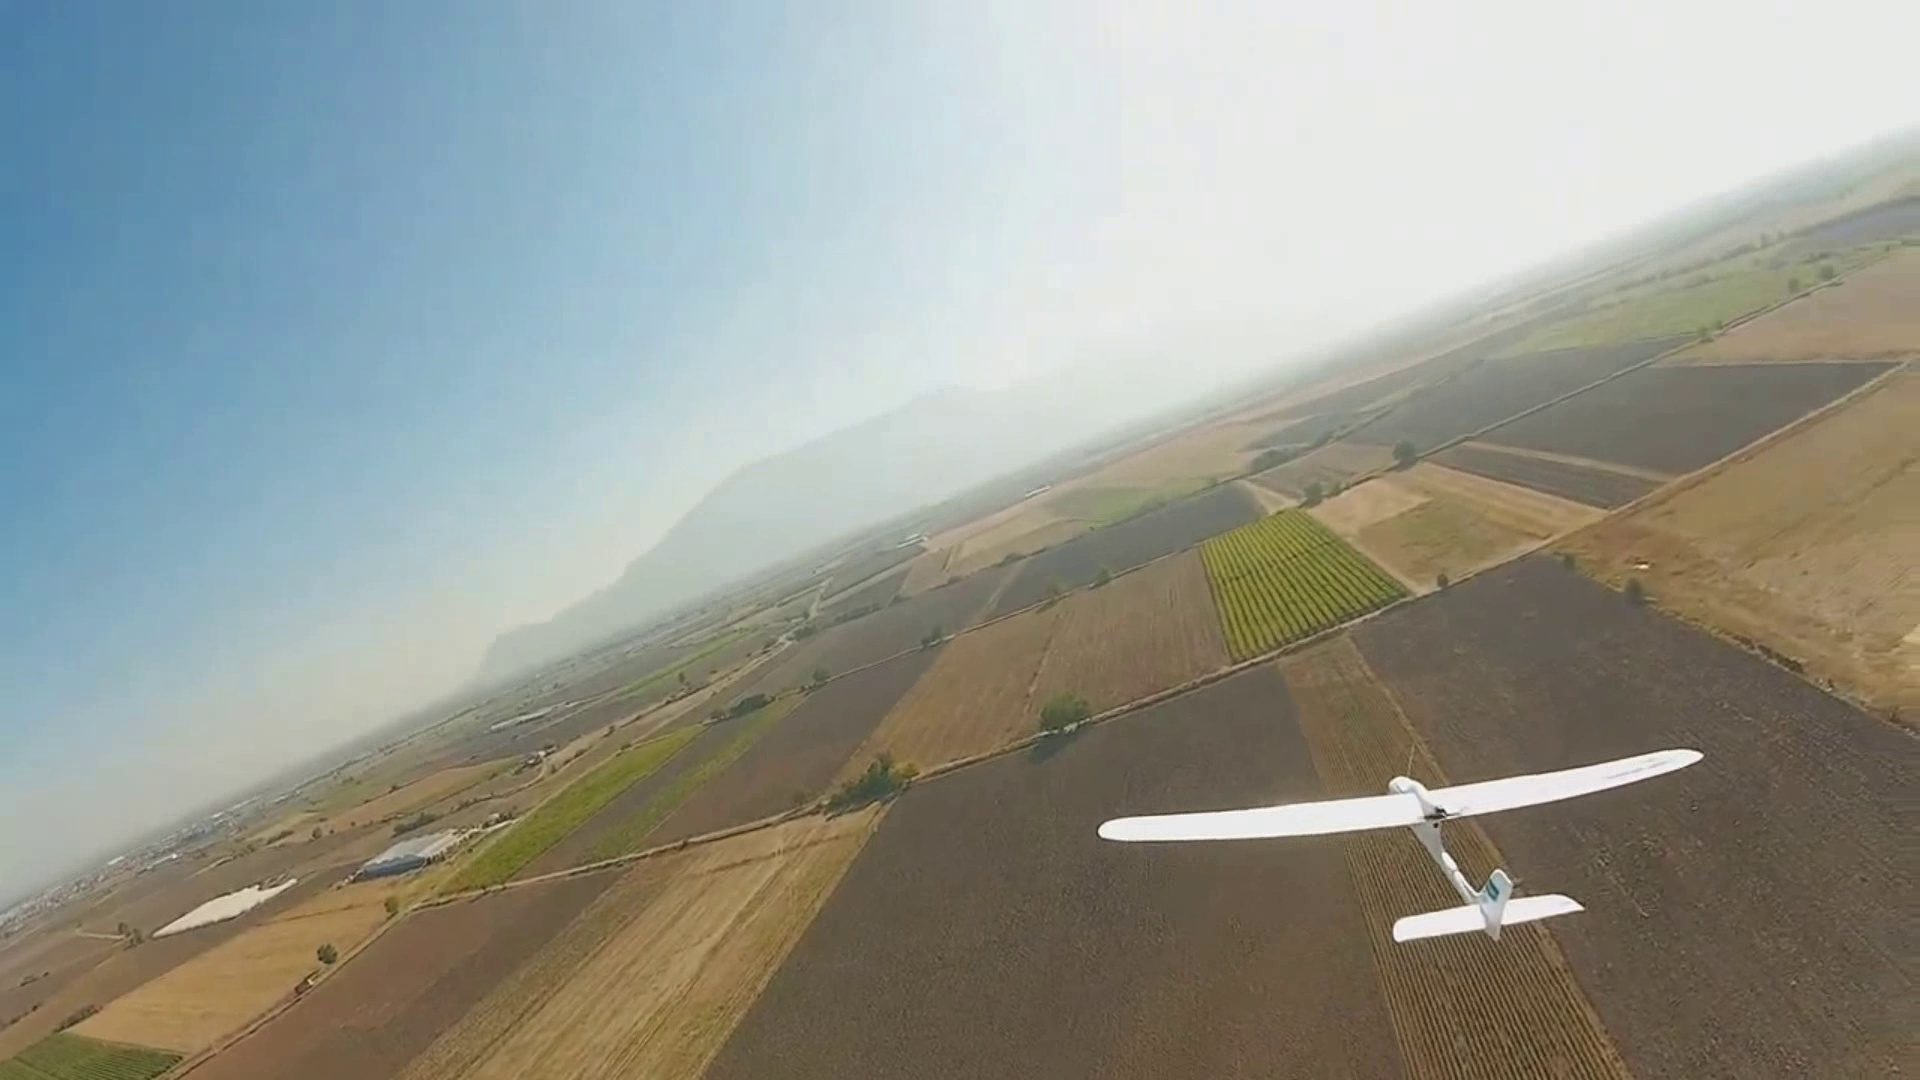airplane: (170, 115, 1920, 957), (1097, 752, 1702, 942)
